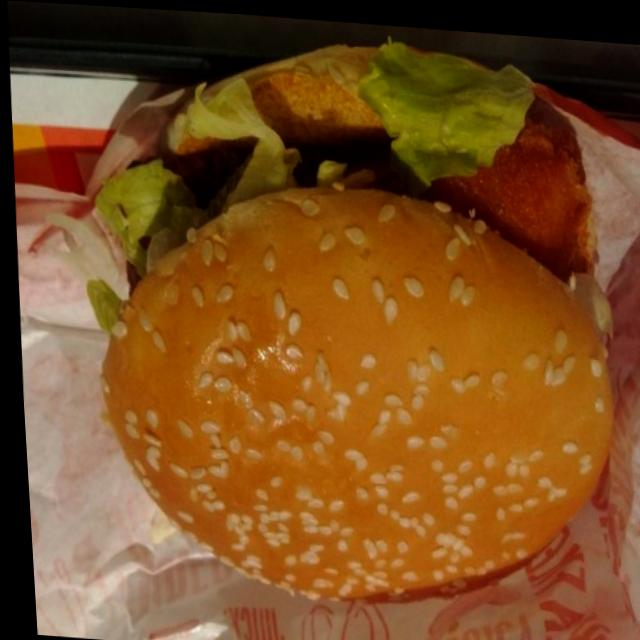汉堡快餐: (54, 3, 623, 615)
